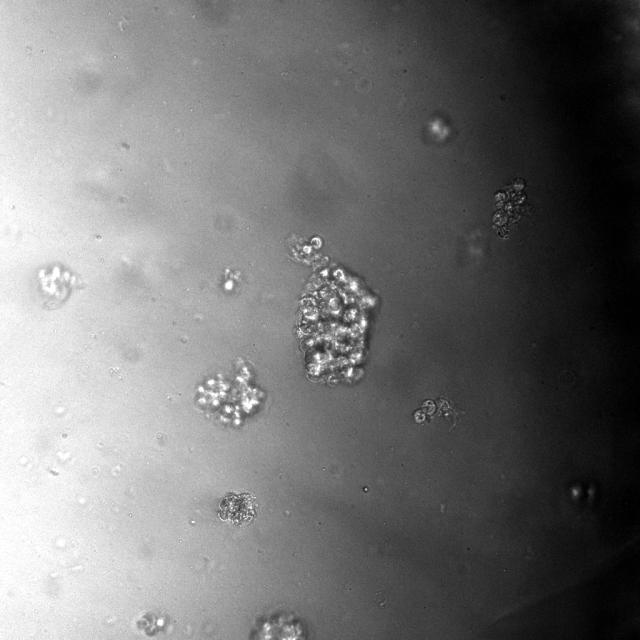organoid: (286, 234, 379, 386), (195, 358, 266, 426), (492, 178, 529, 239), (38, 263, 84, 309), (248, 609, 310, 639), (412, 397, 461, 428), (133, 609, 178, 637), (218, 492, 256, 525)
